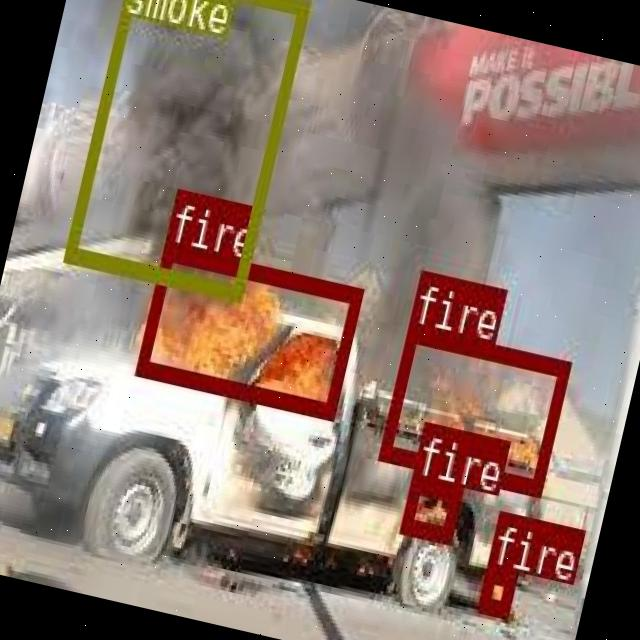fire: (134, 241, 360, 417), (376, 320, 569, 492), (400, 472, 460, 538), (474, 563, 515, 615)
smoke: (63, 0, 308, 299)
